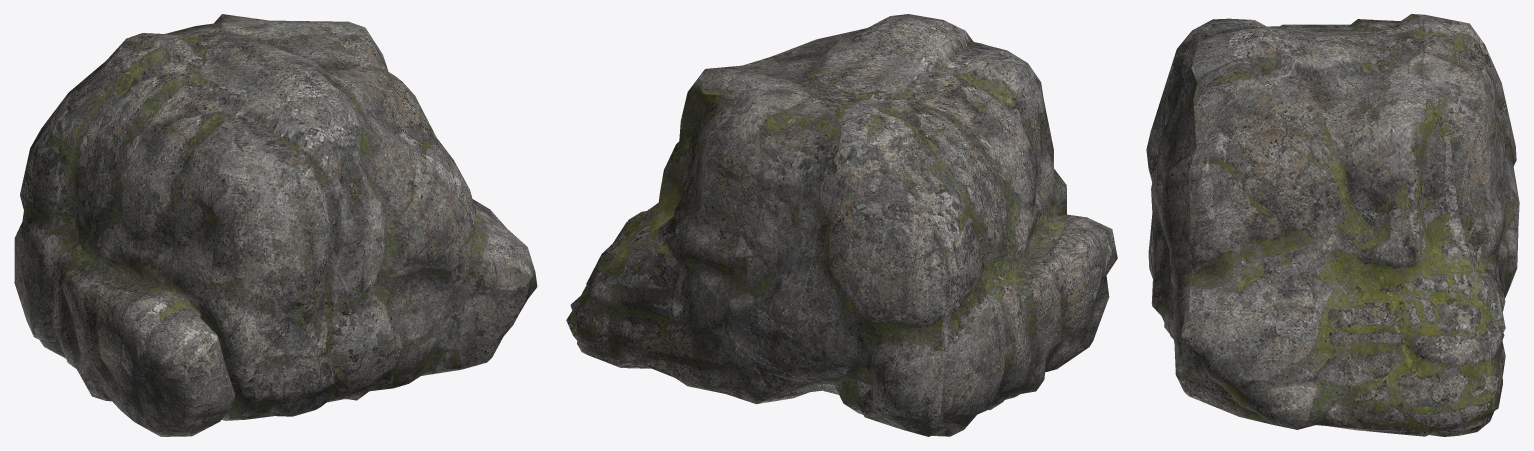
File: Rock01.FBX
3 renders of one model, left to right at view 1: azimuth 30°, elevation 25°; view 2: azimuth 150°, elevation 25°; view 3: azimuth 270°, elevation 25°, orthographic.
Parts seen in each view (by area): view 1: LV_TurtleLake_Rock_GoblinRock01_SM_EYE; view 2: LV_TurtleLake_Rock_GoblinRock01_SM_EYE; view 3: LV_TurtleLake_Rock_GoblinRock01_SM_EYE.
Part boxes in pixels (bbox=[...]): LV_TurtleLake_Rock_GoblinRock01_SM_EYE: bbox=[14, 14, 537, 436]; LV_TurtleLake_Rock_GoblinRock01_SM_EYE: bbox=[566, 14, 1117, 436]; LV_TurtleLake_Rock_GoblinRock01_SM_EYE: bbox=[1146, 14, 1519, 436].
Bounding box in the file's own units: 322 × 230 × 250.
